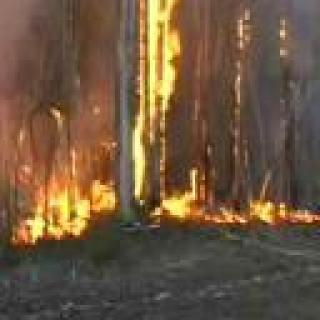fire: (2, 124, 112, 251), (144, 0, 202, 218), (221, 200, 320, 225)
